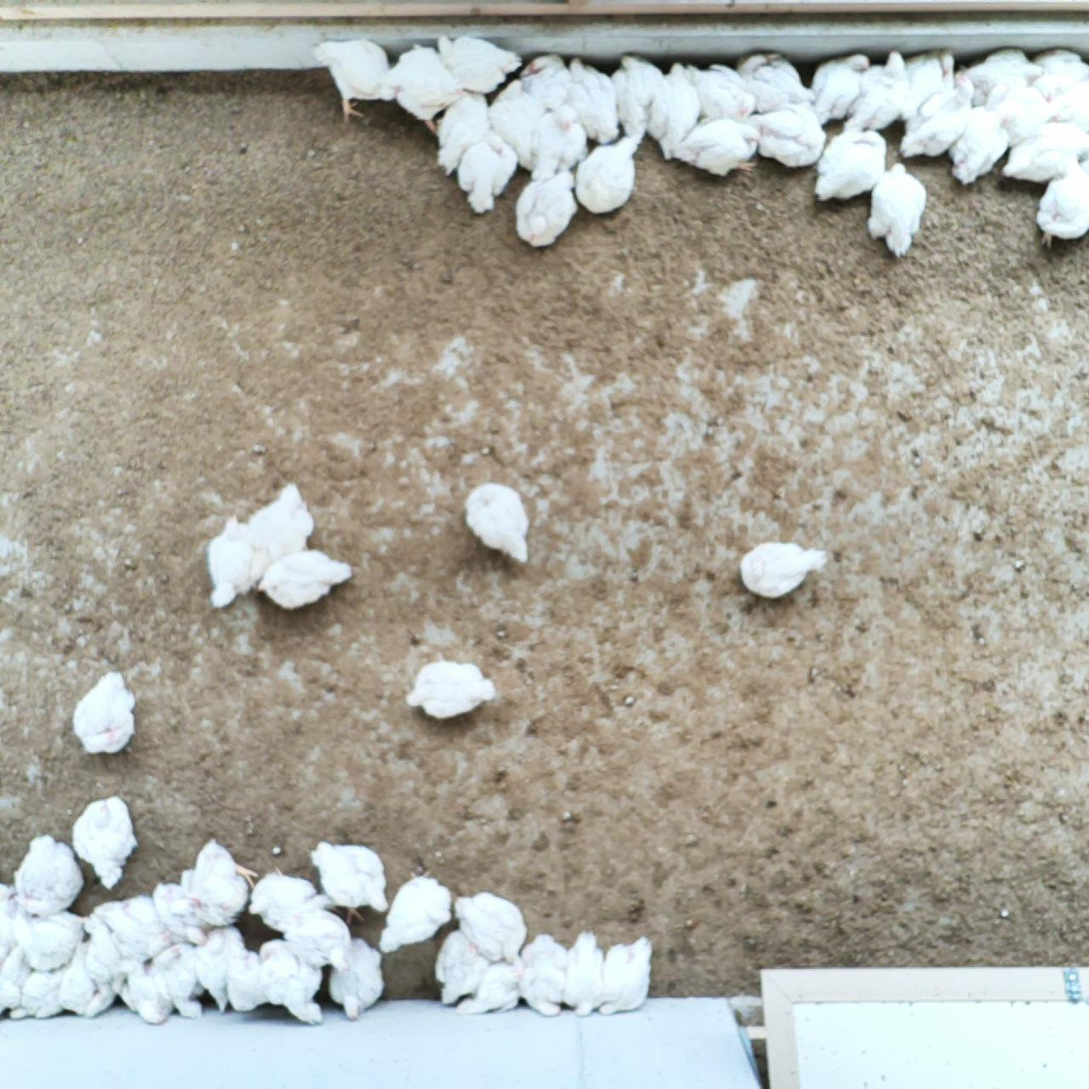chicken: (167, 834, 261, 929), (306, 836, 393, 929), (67, 790, 142, 894), (309, 34, 395, 124), (400, 648, 497, 723), (863, 158, 933, 261), (895, 72, 974, 162), (377, 865, 456, 955), (256, 545, 353, 615), (253, 937, 329, 1026), (736, 533, 832, 603), (458, 478, 533, 567), (810, 124, 891, 205), (451, 888, 530, 969), (70, 667, 141, 756), (248, 477, 321, 562), (670, 113, 764, 179), (11, 828, 82, 914), (645, 60, 704, 162), (842, 48, 911, 135), (573, 133, 641, 220), (486, 77, 547, 172), (245, 862, 331, 929), (436, 29, 523, 95), (204, 512, 262, 611), (1001, 123, 1089, 187), (513, 164, 577, 252), (146, 939, 212, 1024), (431, 87, 492, 178), (457, 129, 519, 218), (752, 103, 830, 172), (597, 934, 658, 1022), (195, 923, 251, 1016), (331, 935, 388, 1025), (56, 939, 119, 1020), (567, 54, 624, 143), (959, 41, 1047, 98), (610, 52, 667, 140), (1030, 167, 1089, 252), (526, 103, 590, 181), (431, 925, 489, 1009), (807, 50, 873, 123), (10, 907, 87, 969), (89, 892, 158, 959), (395, 72, 465, 137), (284, 905, 353, 970), (514, 929, 566, 1015), (945, 125, 1011, 189), (561, 927, 607, 1018), (738, 47, 810, 105), (4, 966, 70, 1025), (455, 958, 523, 1015), (77, 914, 127, 990), (684, 61, 754, 115), (151, 877, 207, 944), (902, 46, 958, 112), (517, 52, 579, 106), (1026, 47, 1089, 99), (124, 965, 172, 1028), (383, 41, 444, 86), (224, 949, 267, 1012), (997, 78, 1053, 126), (966, 82, 1008, 130), (0, 947, 30, 1011), (1050, 81, 1089, 122), (0, 877, 19, 952)
